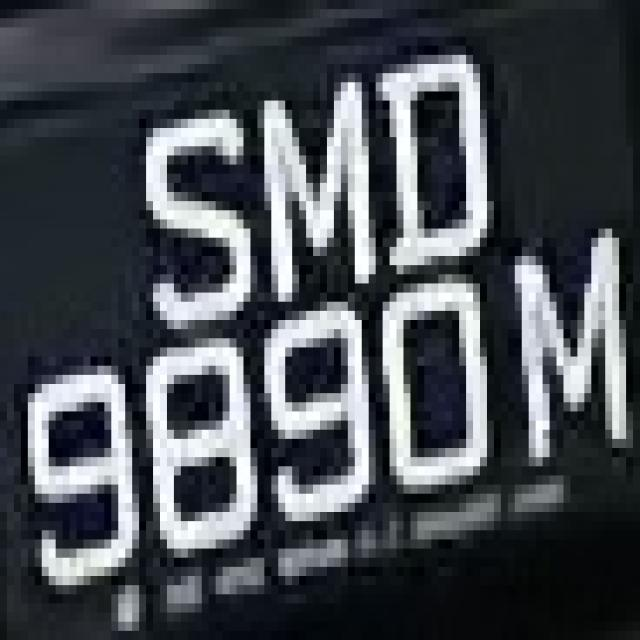0: (376, 238, 494, 484)
8: (119, 311, 278, 567)
9: (244, 256, 368, 558), (21, 329, 146, 604)
D: (376, 46, 501, 283)
M: (487, 210, 633, 485), (230, 55, 376, 302)
S: (111, 82, 258, 338)
